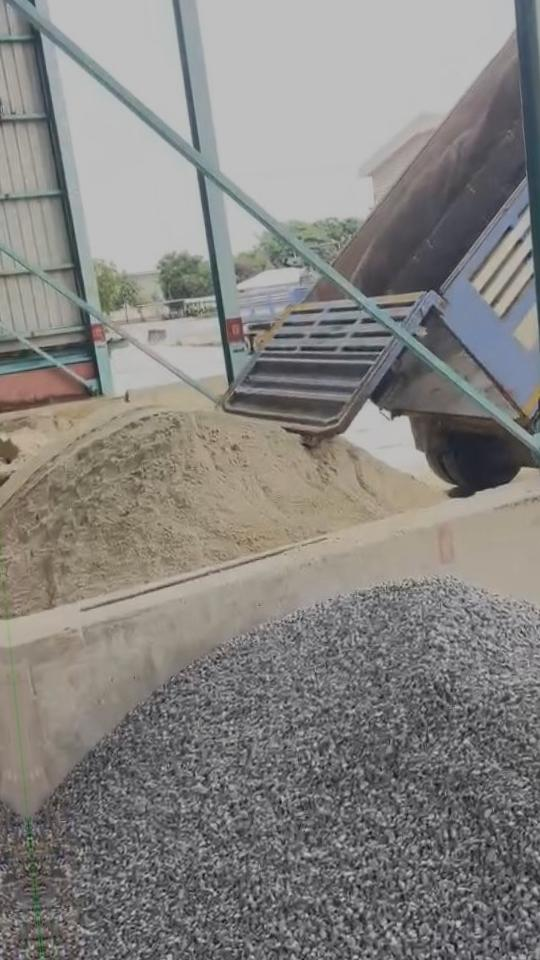gravel: (34, 579, 540, 960)
sand: (0, 407, 443, 614), (0, 427, 50, 466)
